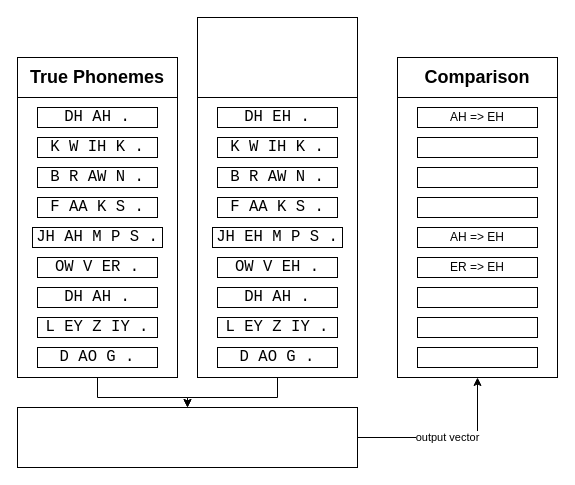
This 575x485 diagram has some shape labels left out. Each missing label, with the box of its shape:
Compare Phonemes: (16, 406, 358, 468)
Read and predicted Phonemes: (196, 16, 358, 98)
